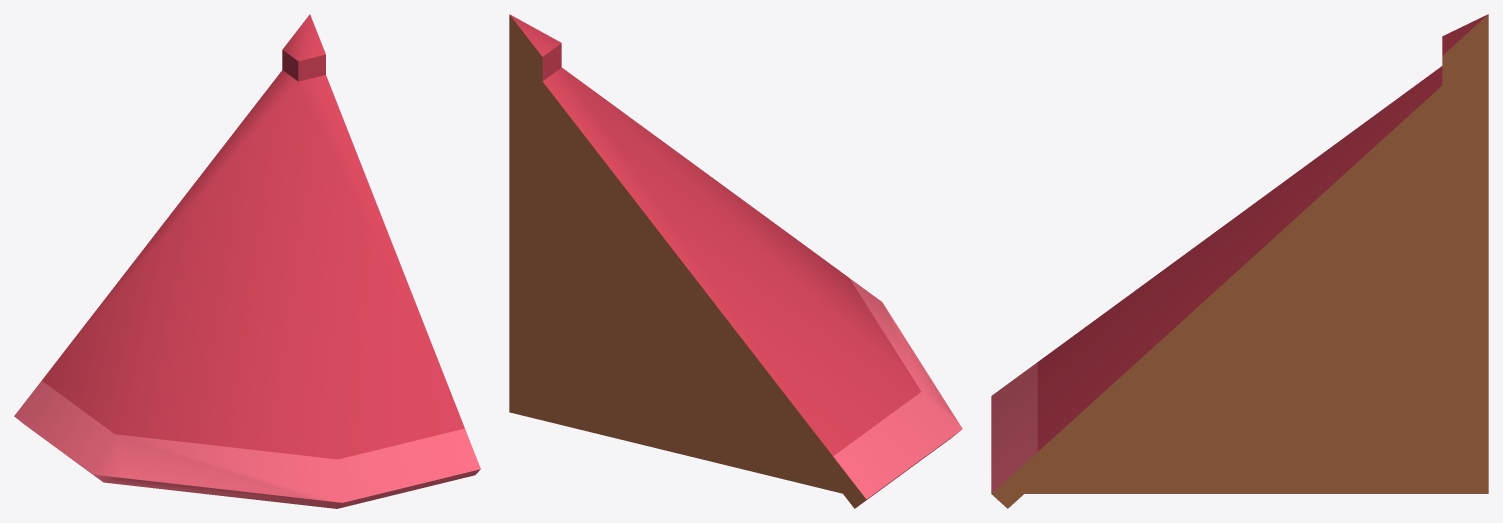
File: roofHighCornerRound.fbx
The picture shows the model from 3 angles, left to right: view 1: azimuth 30°, elevation 25°; view 2: azimuth 150°, elevation 25°; view 3: azimuth 270°, elevation 25°; orthographic projection. The views are drawn at different scales.
Parts seen in each view (by area): view 1: roofHighCornerRound; view 2: roofHighCornerRound; view 3: roofHighCornerRound.
Boxes of the visible parts, x1,y1,x2,y2 form: roofHighCornerRound: [14, 14, 480, 508]; roofHighCornerRound: [509, 14, 962, 508]; roofHighCornerRound: [991, 14, 1488, 508].
Size of the model in its own units: 10.71 by 11.76 by 10.71.
